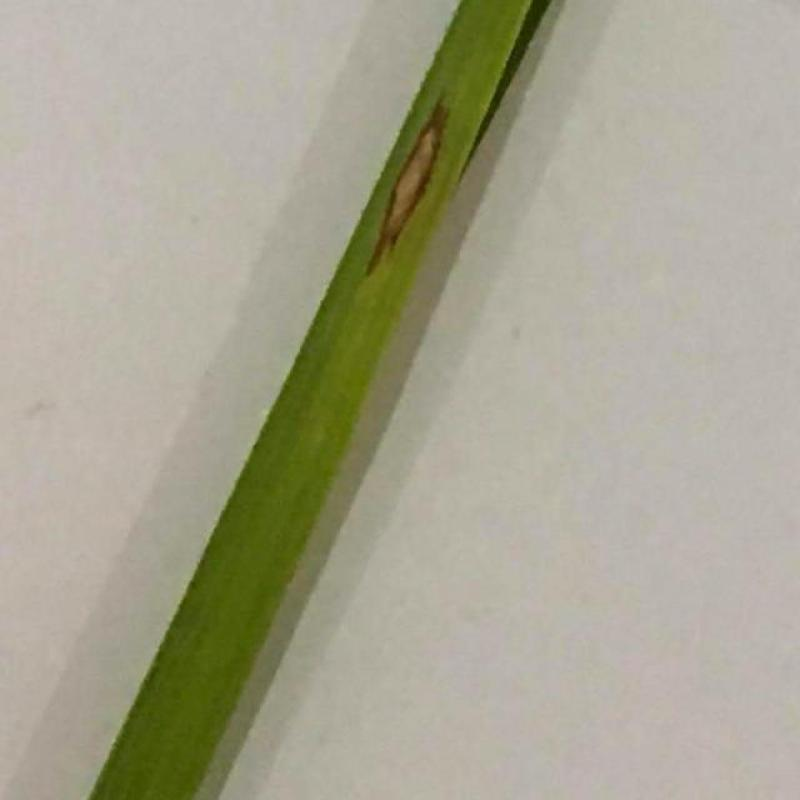Leaf_Blast: (369, 113, 451, 265)
